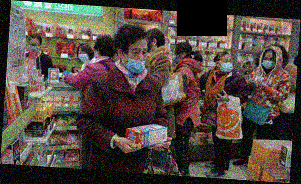mask_weared_incorrect: (124, 45, 148, 74)
with_mask: (219, 58, 234, 74), (262, 56, 278, 70), (78, 50, 91, 64), (28, 40, 40, 54), (173, 49, 183, 64)
